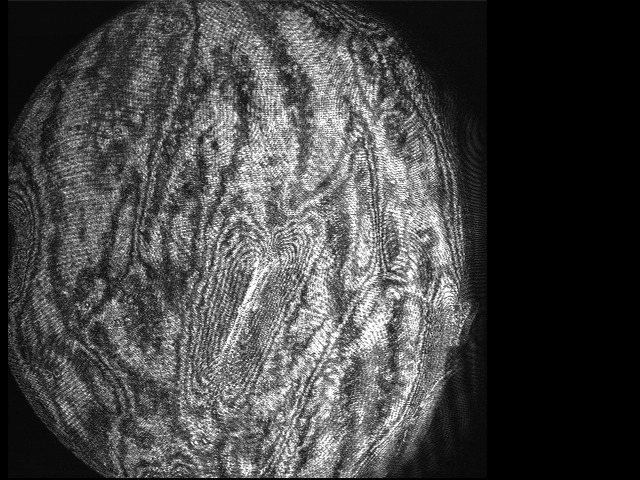plume: (192, 219, 307, 390)
